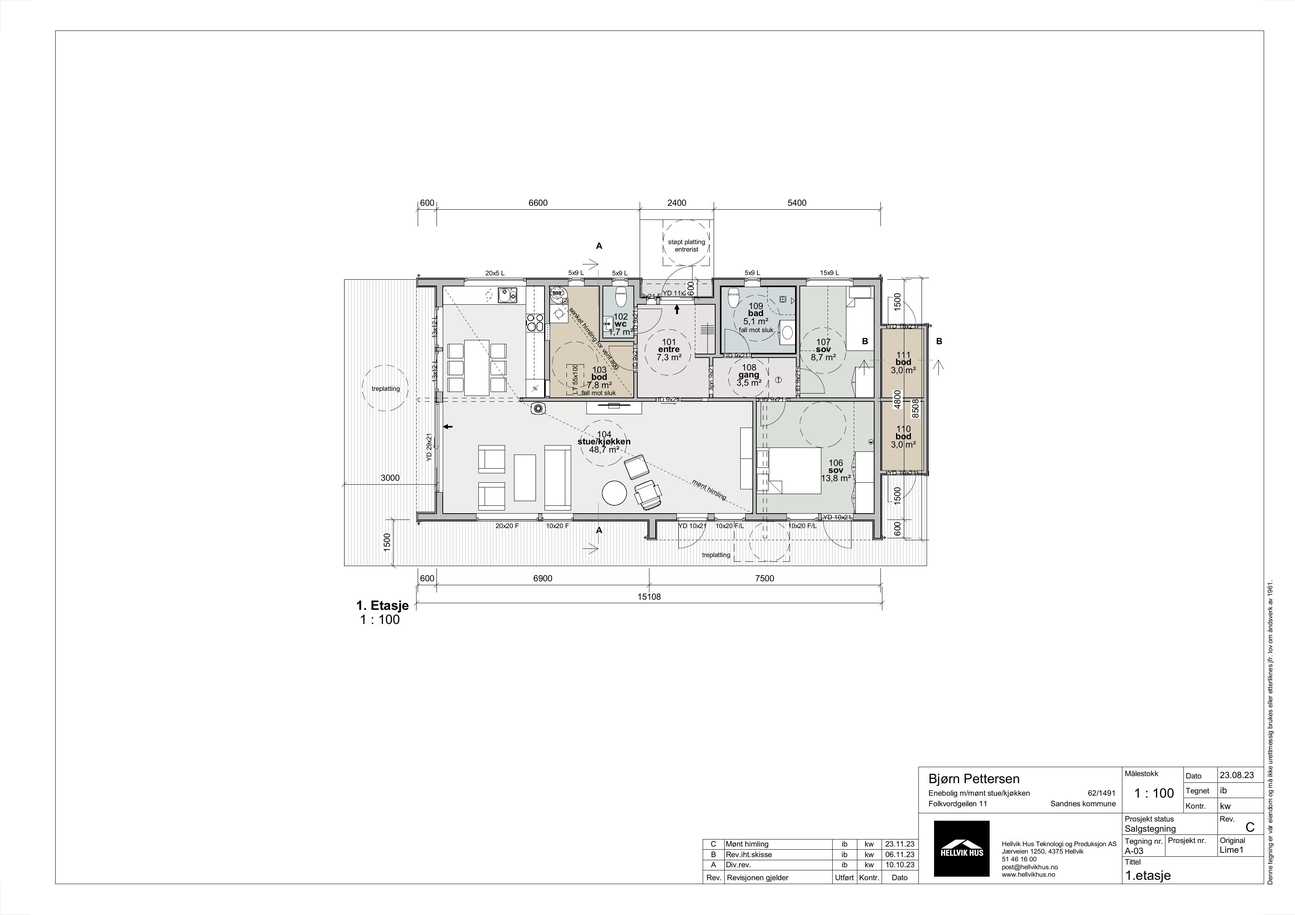plantegning: (342, 218, 931, 570)
